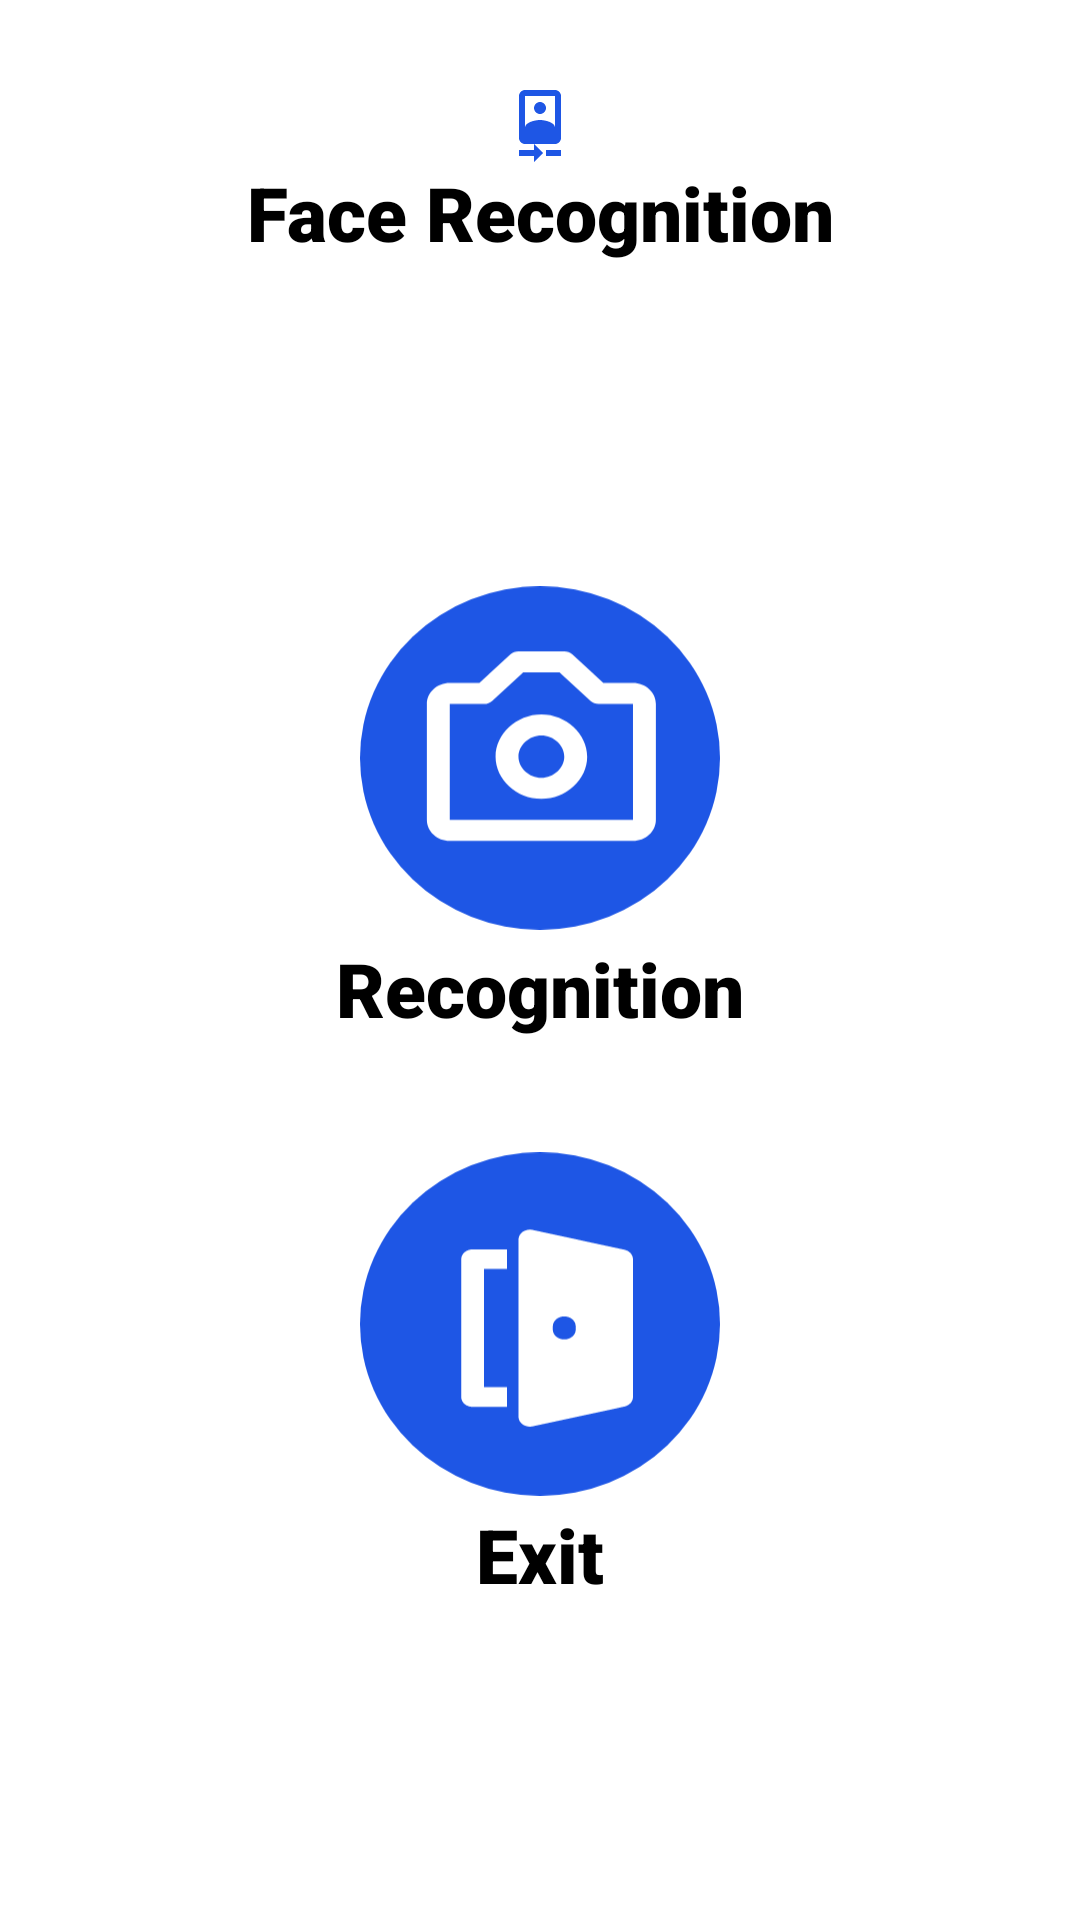

Screen size 1080x1920. Icon name, then its box in pixels as Rect(x1, y1, x2, y2):
camera: Rect(360, 586, 720, 930)
